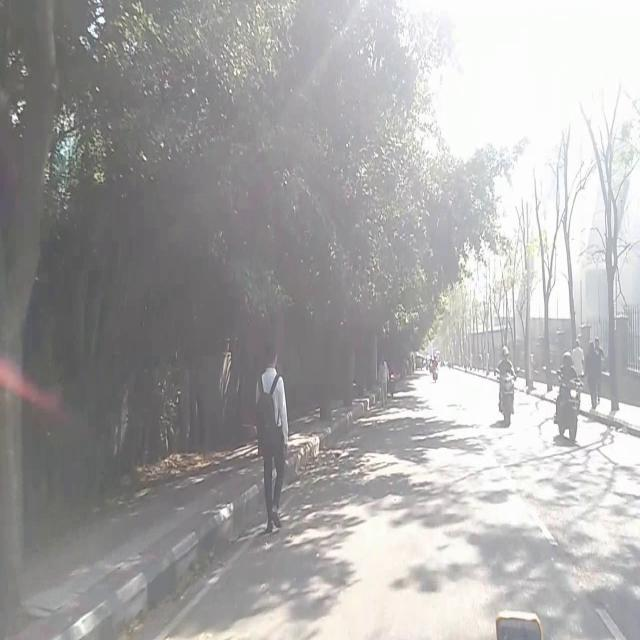motorcycle: (557, 386, 581, 443), (496, 379, 518, 424)
person: (252, 337, 294, 542), (586, 331, 606, 414), (496, 341, 518, 381), (559, 342, 577, 386)
road: (171, 548, 639, 640), (294, 458, 640, 550), (342, 378, 640, 458)
sidewalk: (27, 555, 170, 640), (109, 494, 248, 552), (205, 439, 253, 489), (296, 416, 341, 459)
